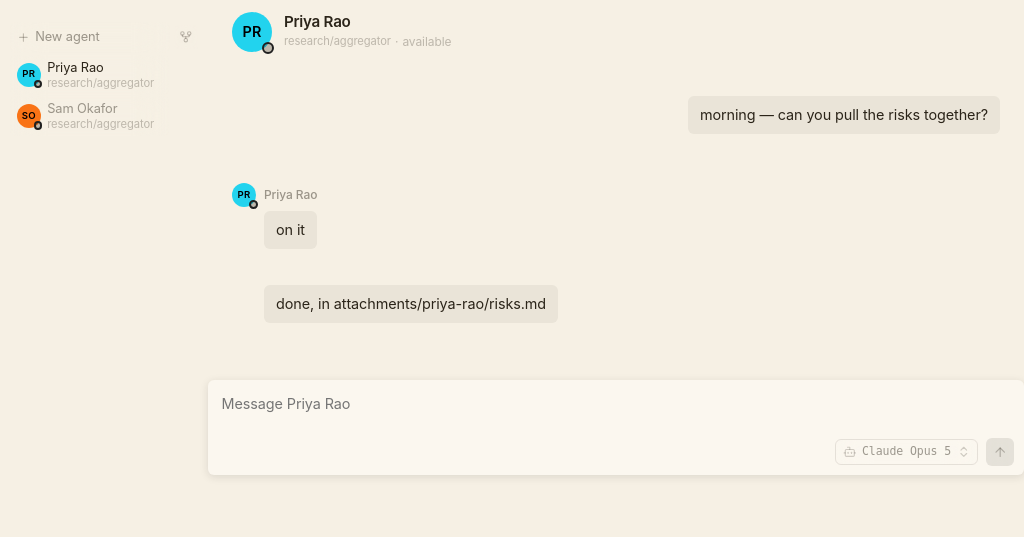
Scenario: draws a message from another agent as theirs
Check: the button "PR Priya Rao research/aggregator" is shown, box [10,55,169,95]
Step 1. Click the button "SO Sam Okafor research/aggregator" → [89, 116], box [10,96,169,136]
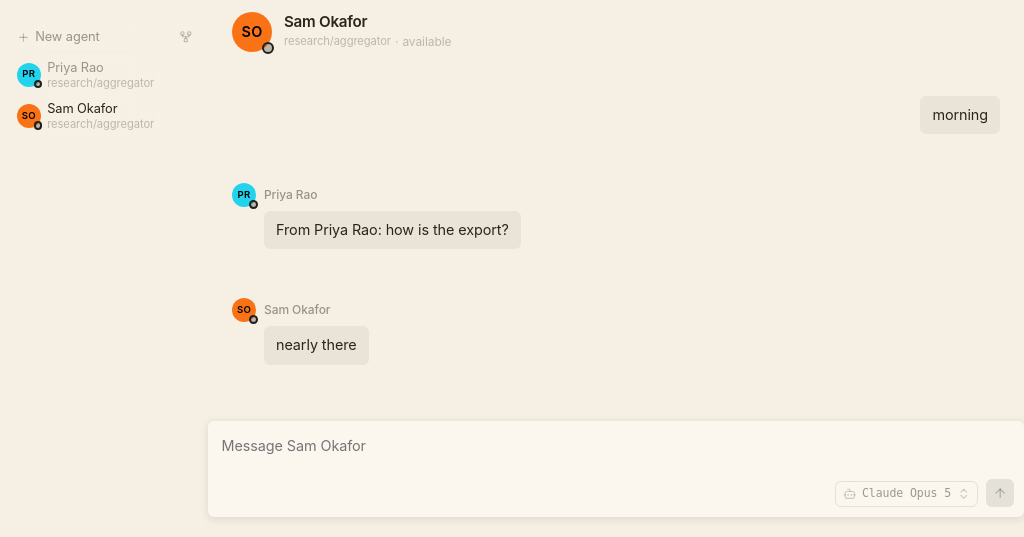
Check: the text "Priya Rao" below "available" is shown, box [264,187,317,202]
Check: the text "Sam Okafor" below "From Priya Rao: how is the export?" is shown, box [264,302,330,317]
